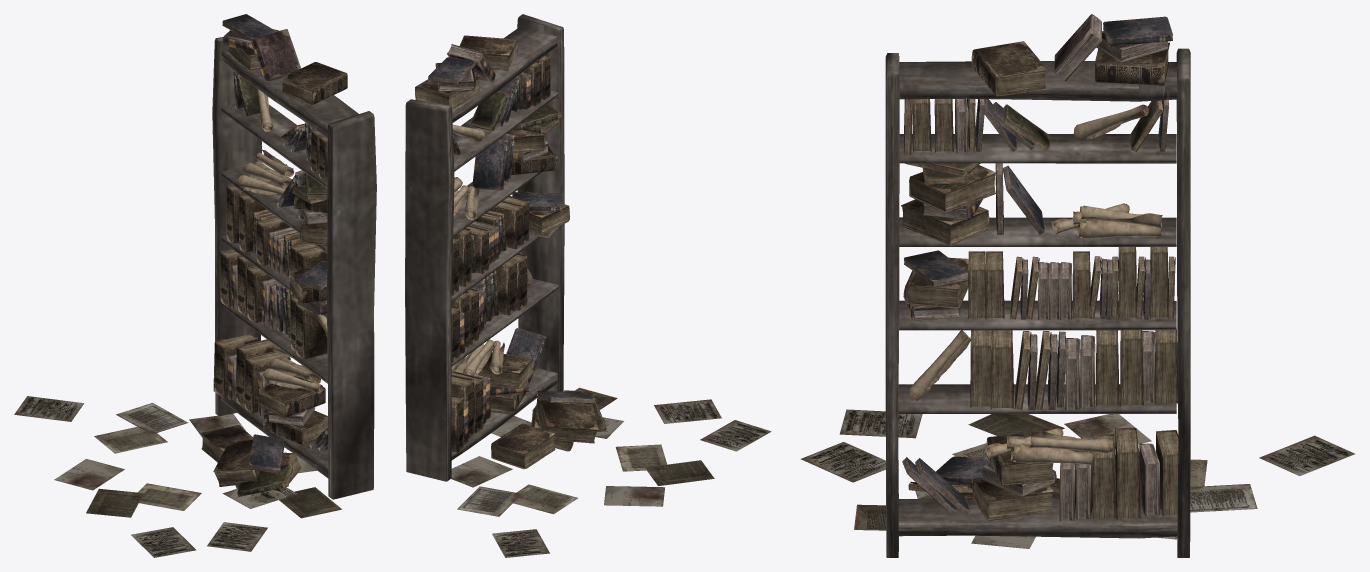
Rendered from AEG004_748-transformed.glb.
The picture shows the model from 3 angles, left to right: view 1: azimuth 30°, elevation 25°; view 2: azimuth 150°, elevation 25°; view 3: azimuth 270°, elevation 25°; orthographic projection. The views are drawn at different scales.
Visible parts, largest first — view 1: default; view 2: default; view 3: default.
Part boxes in pixels (x1,y1,x2,y2): default: (14, 14, 376, 557); default: (405, 14, 771, 557); default: (800, 14, 1354, 557).
Bounding box in the file's own units: 2.24 × 3.45 × 3.25.
Materials: 4 (4 with a texture image).
